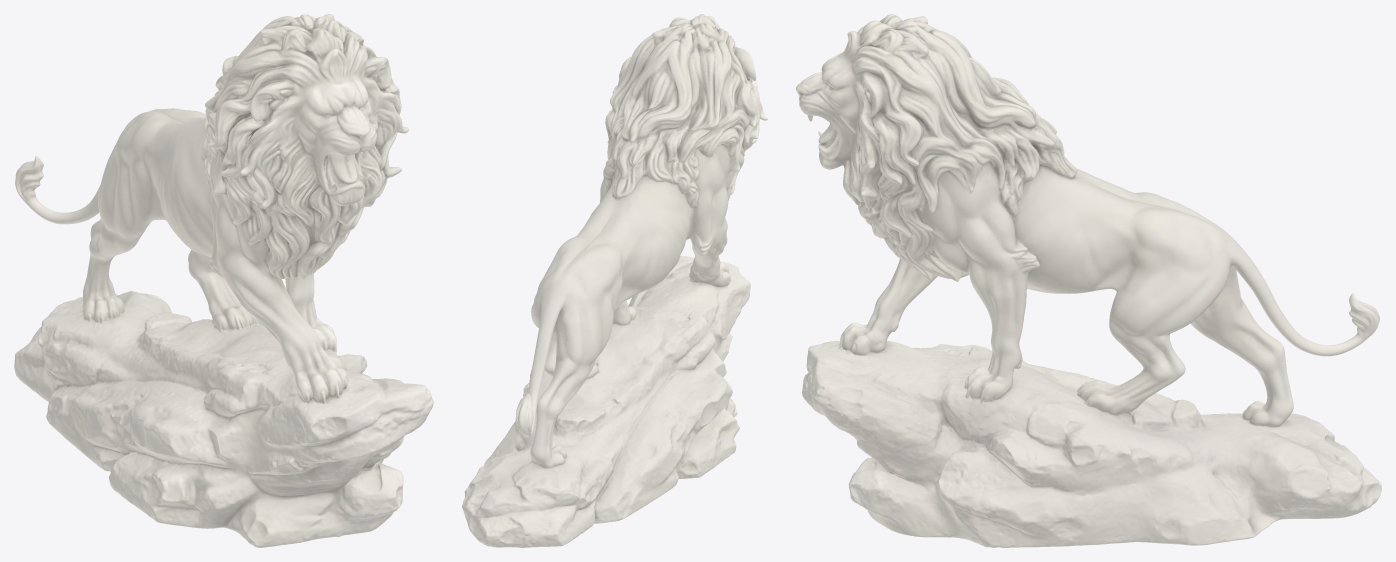
The model's file is White lion.glb.
3 renders of one model, left to right at view 1: azimuth 30°, elevation 25°; view 2: azimuth 150°, elevation 25°; view 3: azimuth 270°, elevation 25°, orthographic. The views are drawn at different scales.
Parts seen in each view (by area): view 1: mesh_node; view 2: mesh_node; view 3: mesh_node.
Boxes of the visible parts, <box> form: mesh_node: <box>14,14,433,547</box>; mesh_node: <box>462,14,767,547</box>; mesh_node: <box>796,14,1381,547</box>.
Size of the model in its own units: 0.8223 by 1.7 by 1.9.
Materials: 1 (1 with a texture image).
